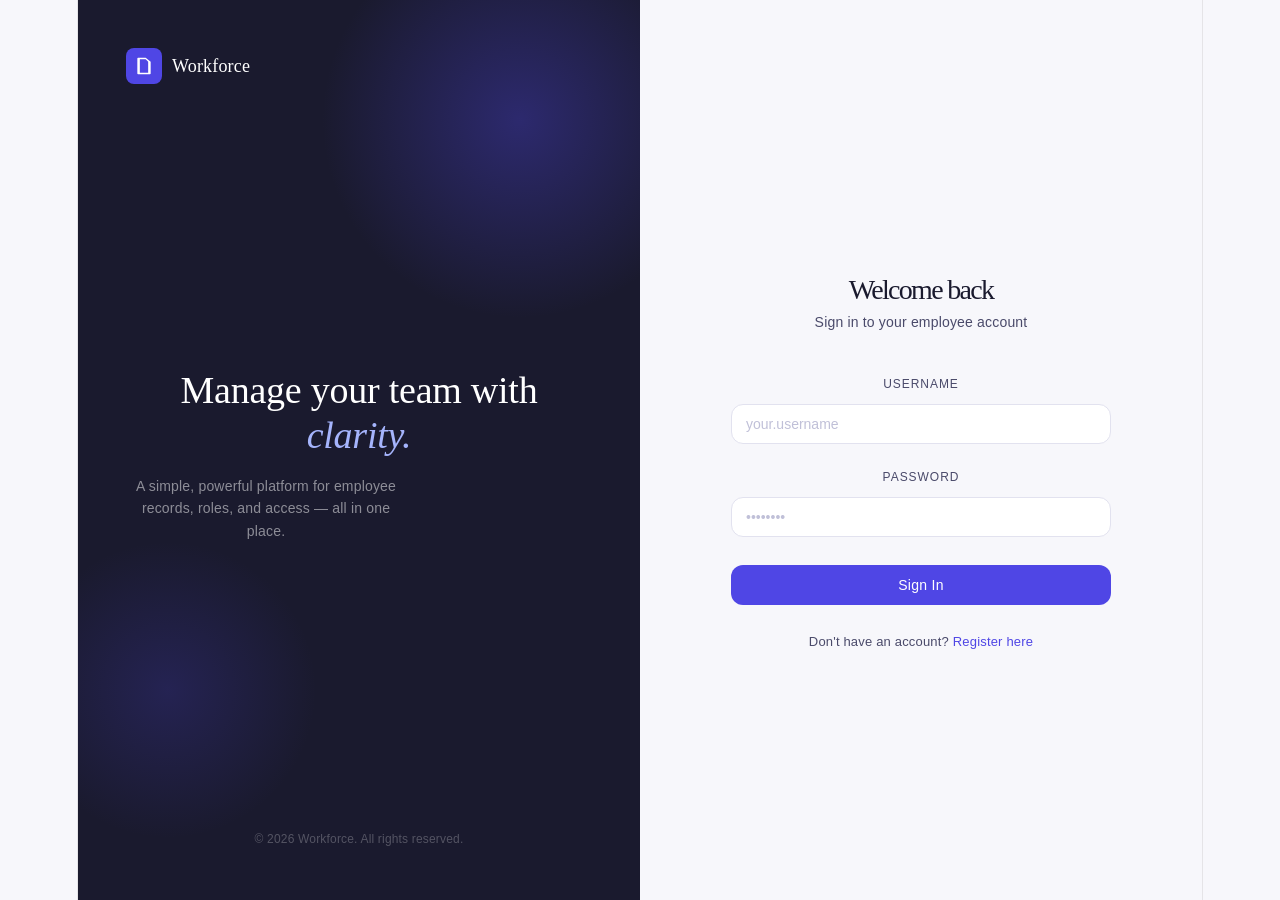
Login Page › shows a validation error when username and password are empty
The width and height of the screenshot is (1280, 900).
Click the button "Sign In" at (921, 585), box top-left (731, 565), bottom-right (1111, 605)
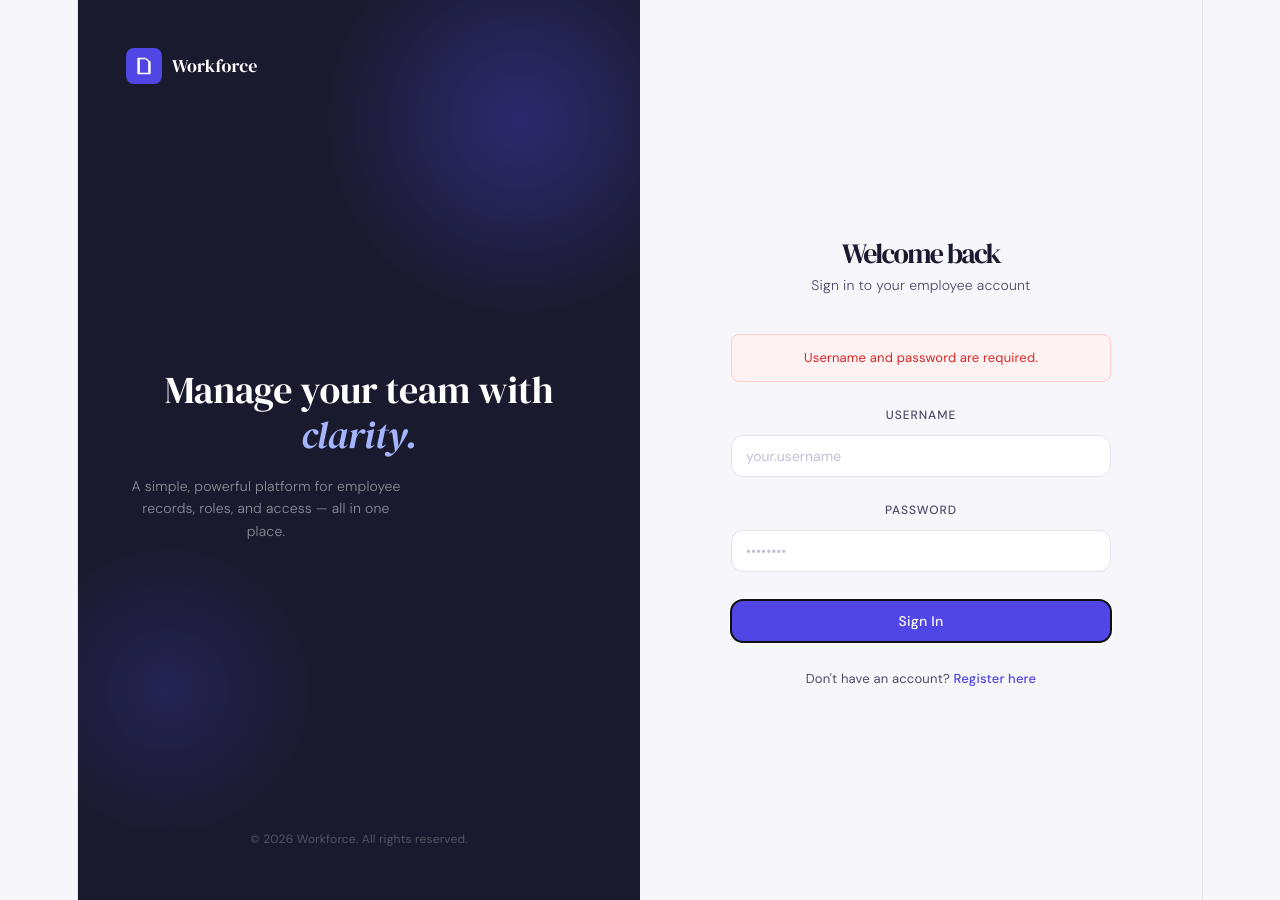
Check: the text "Username and password are required." is shown, box top-left (731, 334), bottom-right (1111, 382)
